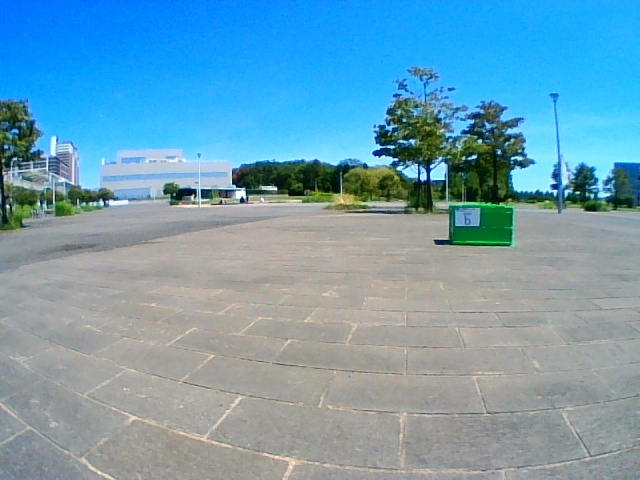tag_b: (450, 203, 512, 245), (456, 209, 478, 226)
